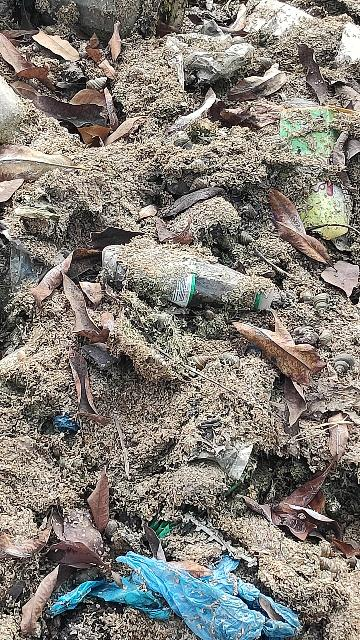bottle: (92, 246, 280, 318)
